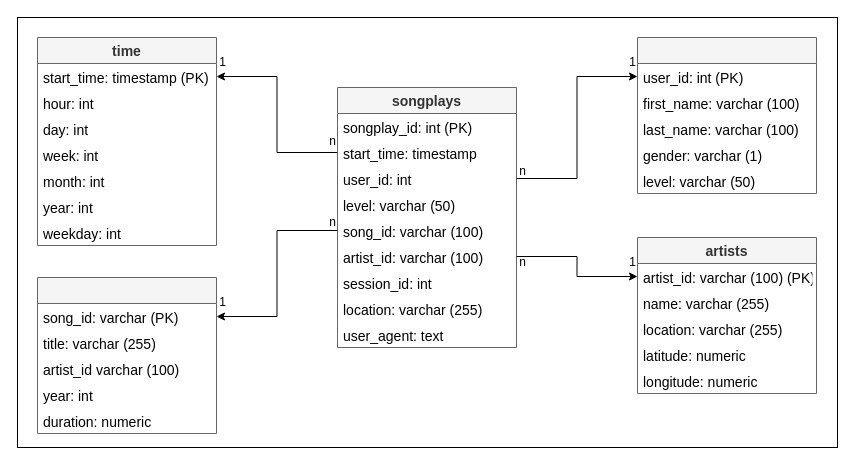
The diagram is 855 pixels wide and 465 high, and some of its shapes have lost their labels. Here are the shapes that lost their labels. From the top down, the box of each, then its label:
(636, 36, 816, 194): users
(36, 276, 216, 434): songs
